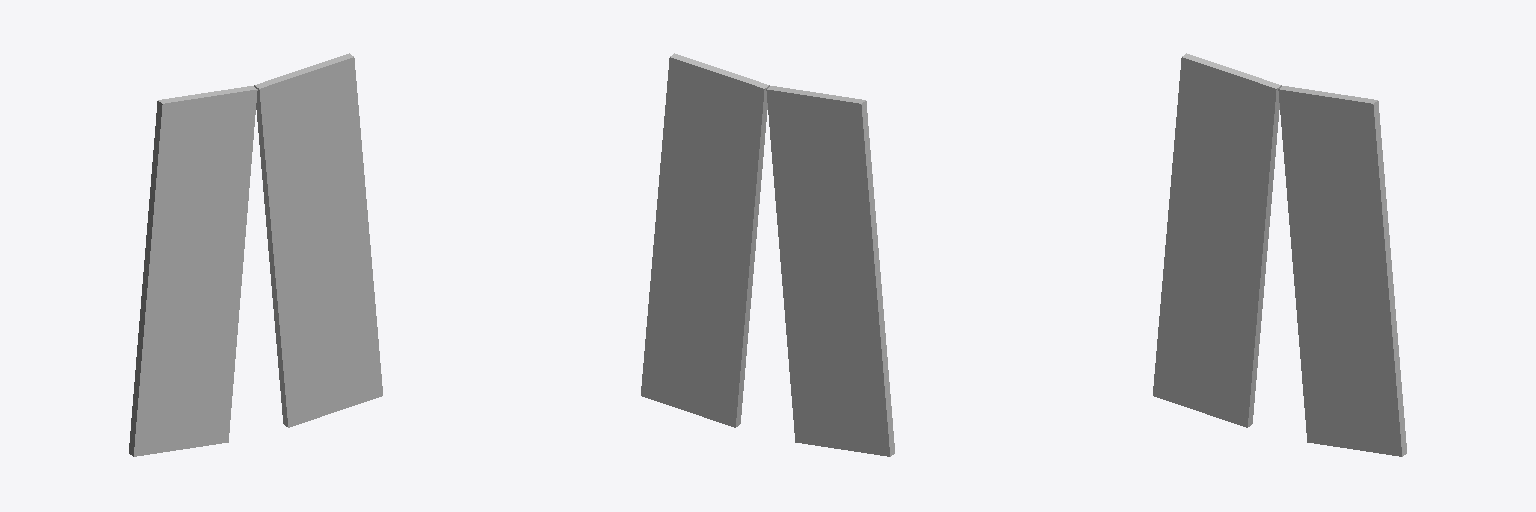
The model's file is tempsurvive_arm-leg.obj.
3 views of the same model, side by side, from view 1: azimuth 30°, elevation 25°; view 2: azimuth 150°, elevation 25°; view 3: azimuth 330°, elevation 25° (orthographic).
Parts seen in each view (by area): view 1: Cube.004_Cube.007; view 2: Cube.004_Cube.007; view 3: Cube.004_Cube.007.
Part boxes in pixels (left/top/right/bottom): Cube.004_Cube.007: left=129, top=53, right=382, bottom=456; Cube.004_Cube.007: left=641, top=53, right=894, bottom=456; Cube.004_Cube.007: left=1153, top=53, right=1406, bottom=456.
Bounding box in the file's own units: 0.5673 × 0.7703 × 0.0197.